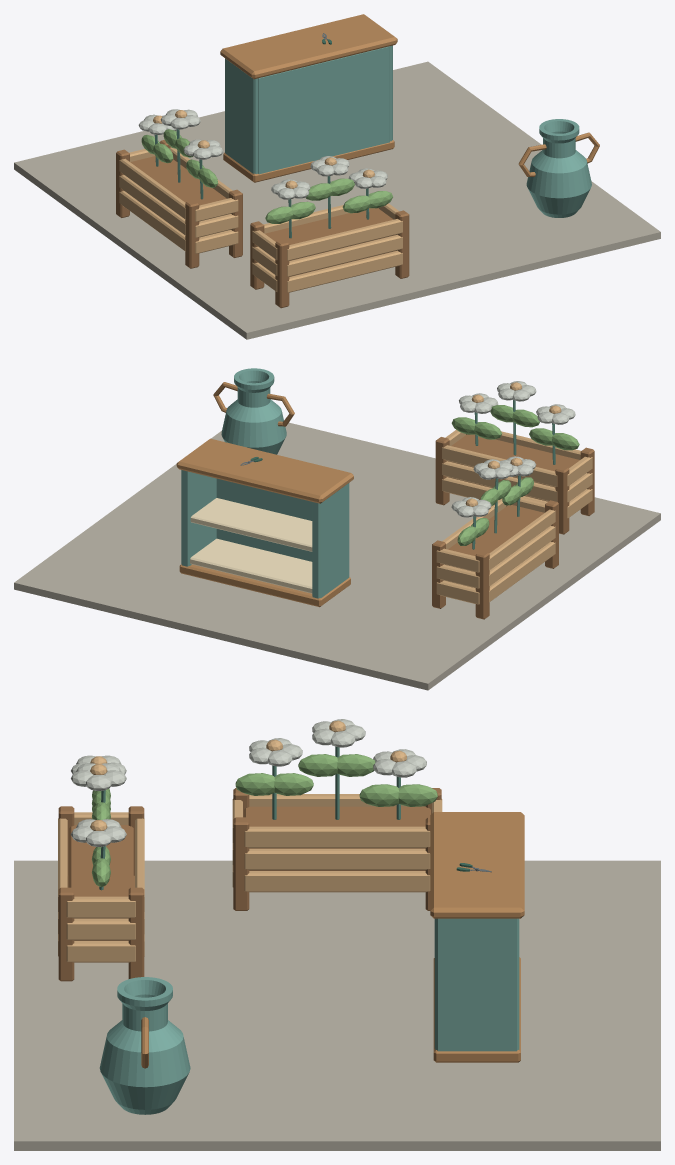
3 renders of one model, top to bottom at view 1: azimuth 30°, elevation 25°; view 2: azimuth 150°, elevation 25°; view 3: azimuth 270°, elevation 25°, orthographic. The views are drawn at different scales.
Visible parts, largest first — view 1: SCENE_ONLY__SupportFloor, service_counter__dining-service-counter-01, front_flowering_display__village-flower-box-01, west_flowering_display__village-flower-box-01, empty_vessel_display__ceramics-amphora-01; view 2: SCENE_ONLY__SupportFloor, service_counter__dining-service-counter-01, front_flowering_display__village-flower-box-01, west_flowering_display__village-flower-box-01, empty_vessel_display__ceramics-amphora-01; view 3: SCENE_ONLY__SupportFloor, west_flowering_display__village-flower-box-01, service_counter__dining-service-counter-01, front_flowering_display__village-flower-box-01, empty_vessel_display__ceramics-amphora-01.
Boxes of the visible parts, box(x1,y1,x2,y2) form: SCENE_ONLY__SupportFloor: box(14, 61, 660, 339); service_counter__dining-service-counter-01: box(220, 14, 397, 182); front_flowering_display__village-flower-box-01: box(250, 156, 409, 308); west_flowering_display__village-flower-box-01: box(116, 109, 242, 268); empty_vessel_display__ceramics-amphora-01: box(518, 119, 599, 217); SCENE_ONLY__SupportFloor: box(14, 422, 660, 690); service_counter__dining-service-counter-01: box(176, 438, 353, 607); front_flowering_display__village-flower-box-01: box(435, 381, 594, 534); west_flowering_display__village-flower-box-01: box(432, 456, 558, 619); empty_vessel_display__ceramics-amphora-01: box(213, 368, 294, 454); SCENE_ONLY__SupportFloor: box(14, 860, 660, 1150); west_flowering_display__village-flower-box-01: box(232, 719, 442, 910); service_counter__dining-service-counter-01: box(430, 812, 524, 1062); front_flowering_display__village-flower-box-01: box(58, 755, 144, 981); empty_vessel_display__ceramics-amphora-01: box(99, 977, 190, 1114).
Bounding box in the file's own units: 3.8 × 1.15 × 3.7.
